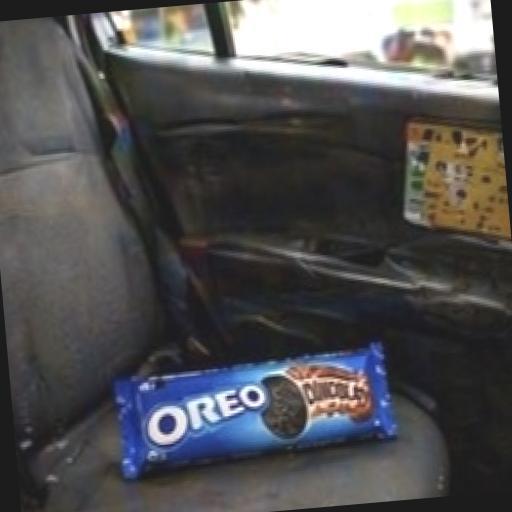oreo: (64, 273, 434, 510)
